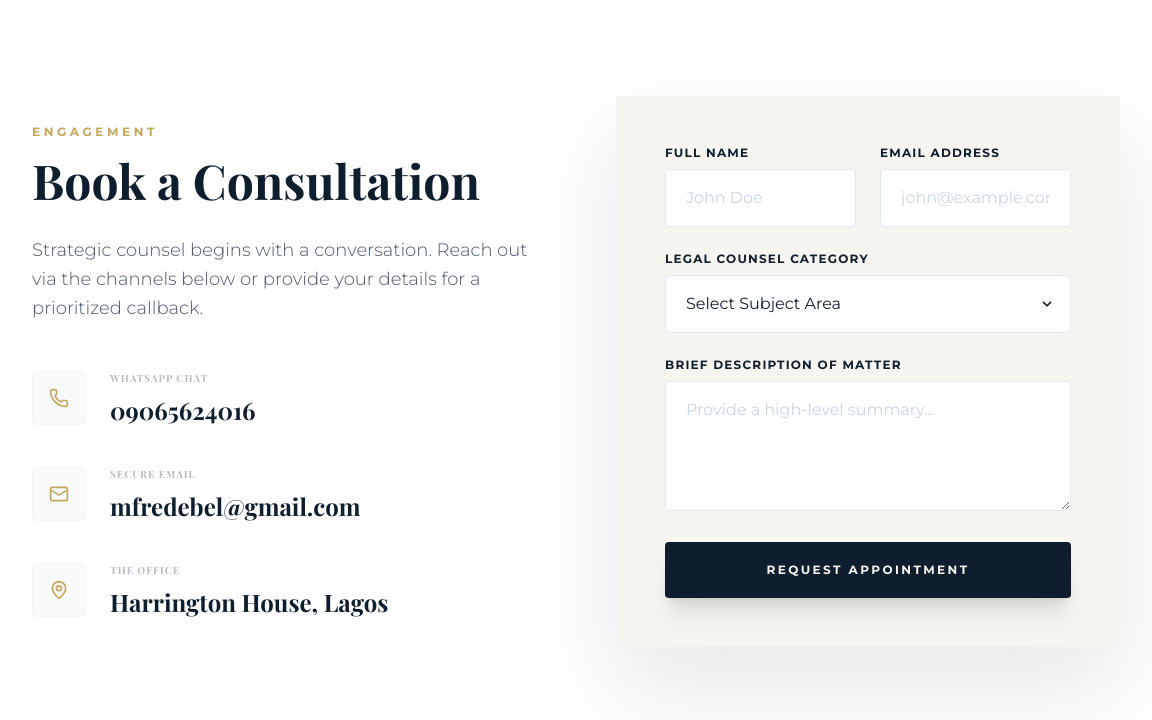
Test: ContactSection › shows validation errors for empty fields
Click the button "Request Appointment" at [868, 570], box [665, 542, 1071, 598]
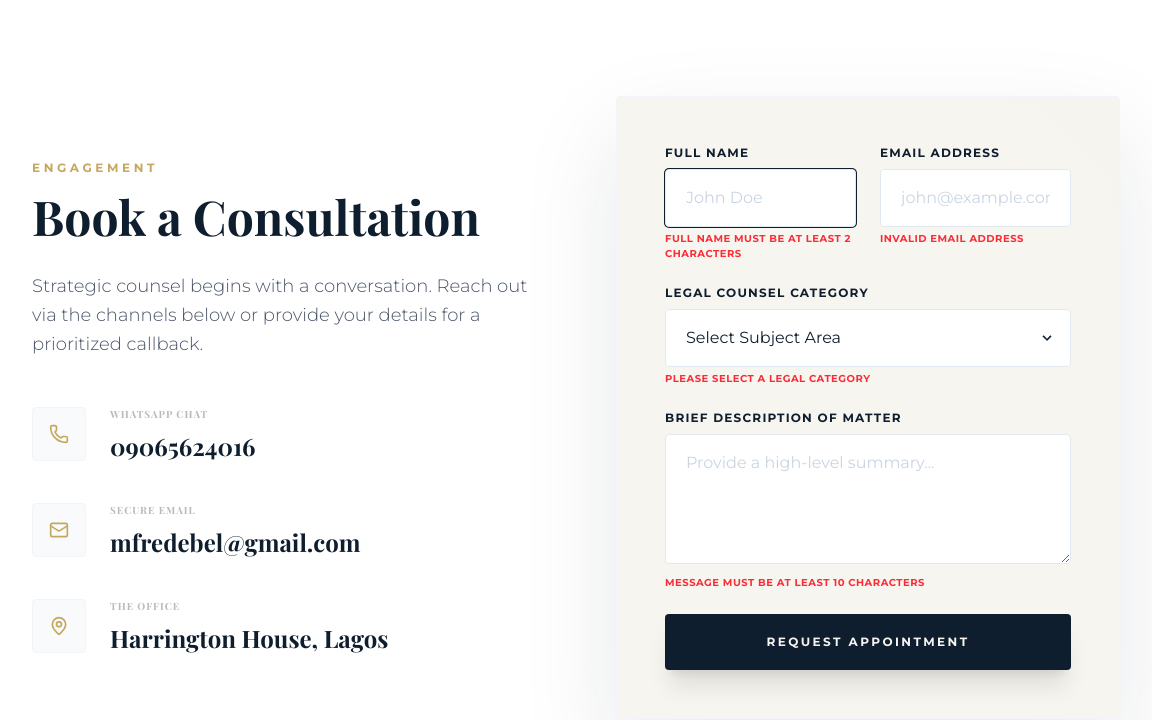
Check: the text "Full name must be at least 2 characters" is shown, box [665, 231, 856, 261]
Check: the text "Invalid email address" is shown, box [880, 232, 1024, 245]
Check: the text "Please select a legal category" is shown, box [665, 372, 870, 385]
